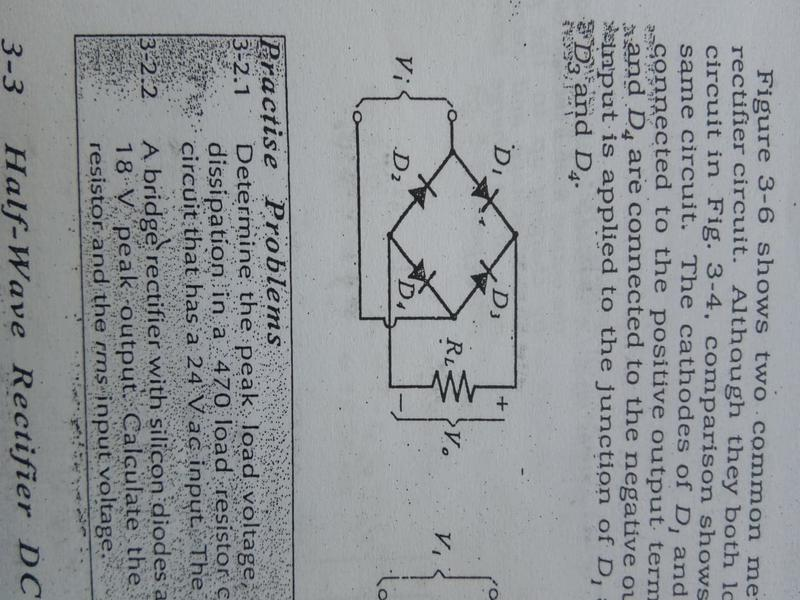diode: (466, 170, 521, 235), (398, 167, 447, 217), (464, 251, 502, 305), (401, 252, 443, 298)
resistor: (411, 361, 497, 410)
